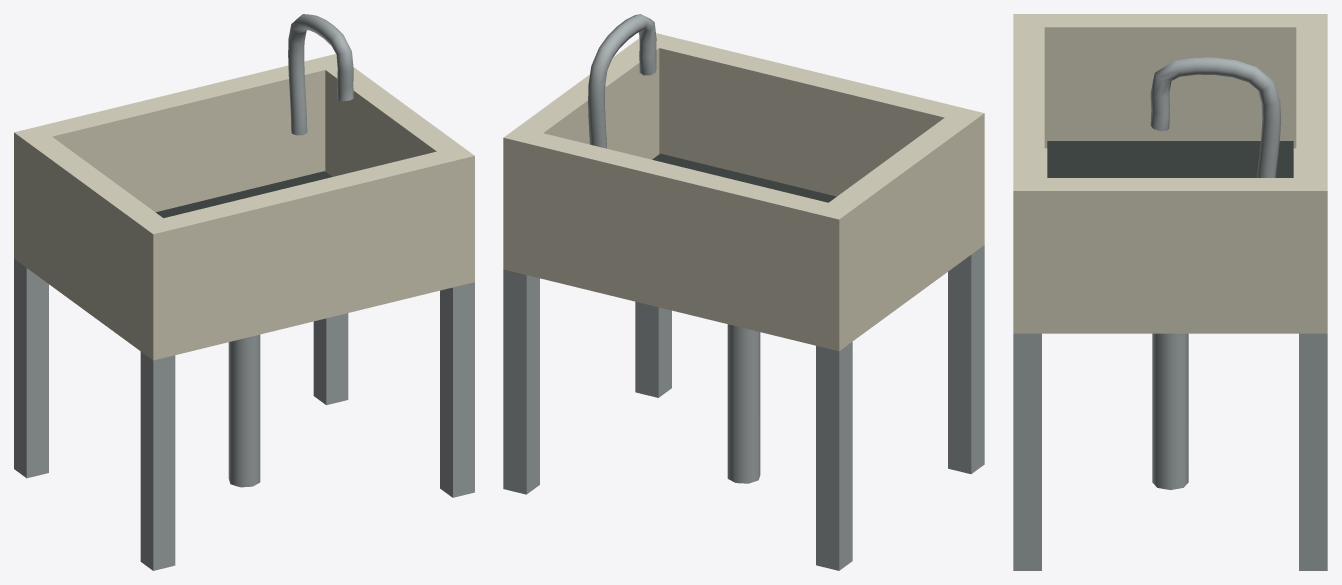
File: prehistoric-survivor-settlement-washing-basin-stand-db4a52d4__23220.glb
3 renders of one model, left to right at view 1: azimuth 30°, elevation 25°; view 2: azimuth 150°, elevation 25°; view 3: azimuth 270°, elevation 25°, orthographic. The views are drawn at different scales.
Parts seen in each view (by area): view 1: washing-basin-stand; view 2: washing-basin-stand; view 3: washing-basin-stand.
Part boxes in pixels (left/top/right/bottom): washing-basin-stand: left=14, top=14, right=474, bottom=570; washing-basin-stand: left=503, top=14, right=984, bottom=570; washing-basin-stand: left=1013, top=14, right=1327, bottom=570.
Size of the model in its own units: 0.8 by 1.01 by 0.6.
